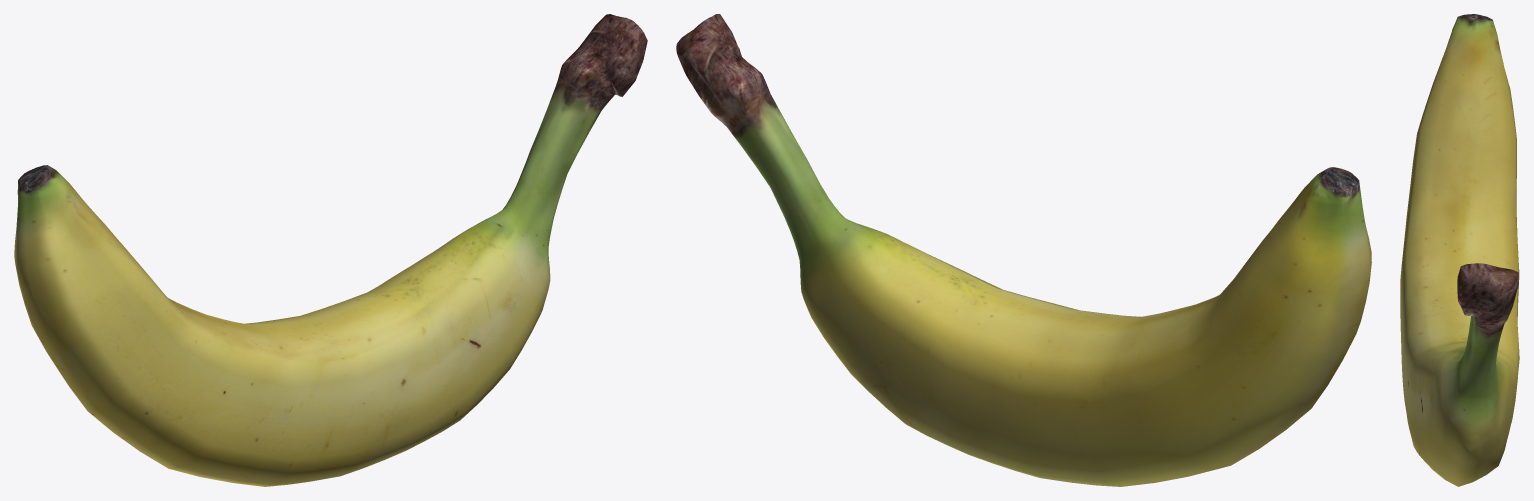
Rendered from banana.obj.
3 views of the same model, side by side, from view 1: azimuth 30°, elevation 25°; view 2: azimuth 150°, elevation 25°; view 3: azimuth 270°, elevation 25° (orthographic). The views are drawn at different scales.
Visible parts, largest first — view 1: object_0; view 2: object_0; view 3: object_0.
Boxes of the visible parts, x1,y1,x2,y2 form: object_0: (14,14,647,486); object_0: (676,14,1371,486); object_0: (1400,14,1519,486).
Bounding box in the file's own units: 5.98 × 3.31 × 1.11.
1 material, 1 textured.
